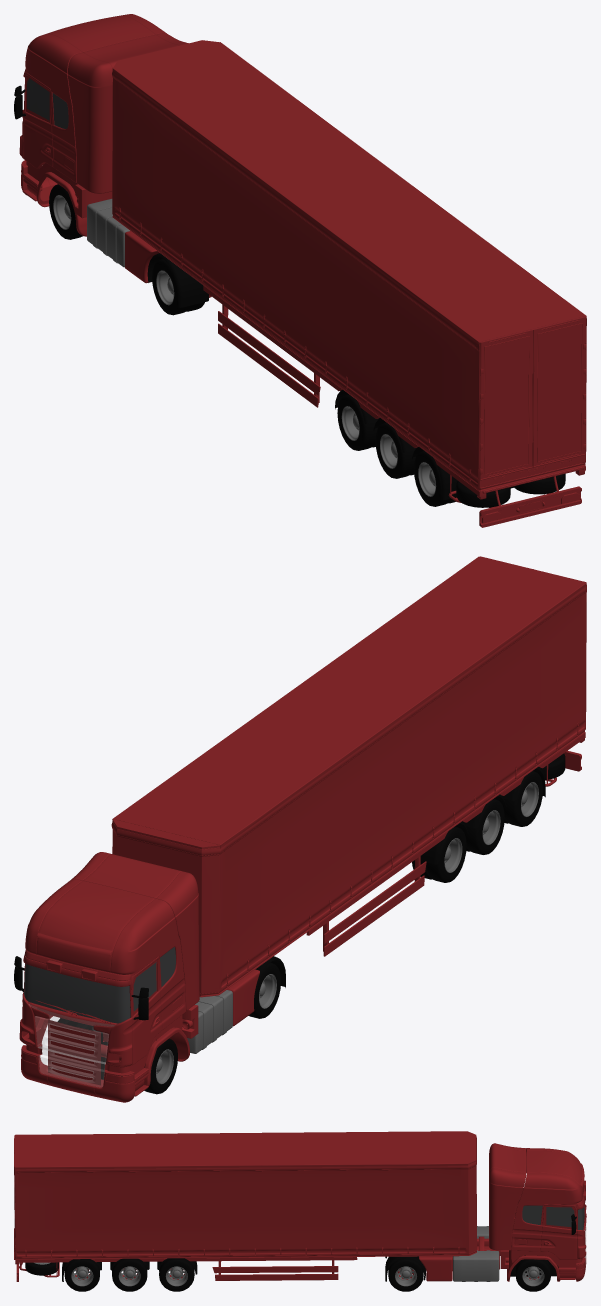
3 renders of one model, top to bottom at view 1: azimuth 30°, elevation 25°; view 2: azimuth 150°, elevation 25°; view 3: azimuth 270°, elevation 25°, orthographic. The views are drawn at different scales.
Parts seen in each view (by area): view 1: 卡车A; view 2: 卡车A; view 3: 卡车A.
Part boxes in pixels (x1,y1,x2,y2): 卡车A: [14, 14, 586, 527]; 卡车A: [14, 556, 586, 1102]; 卡车A: [14, 1131, 586, 1291].
Bounding box in the file's own units: 2.97 × 4.42 × 17.76.
